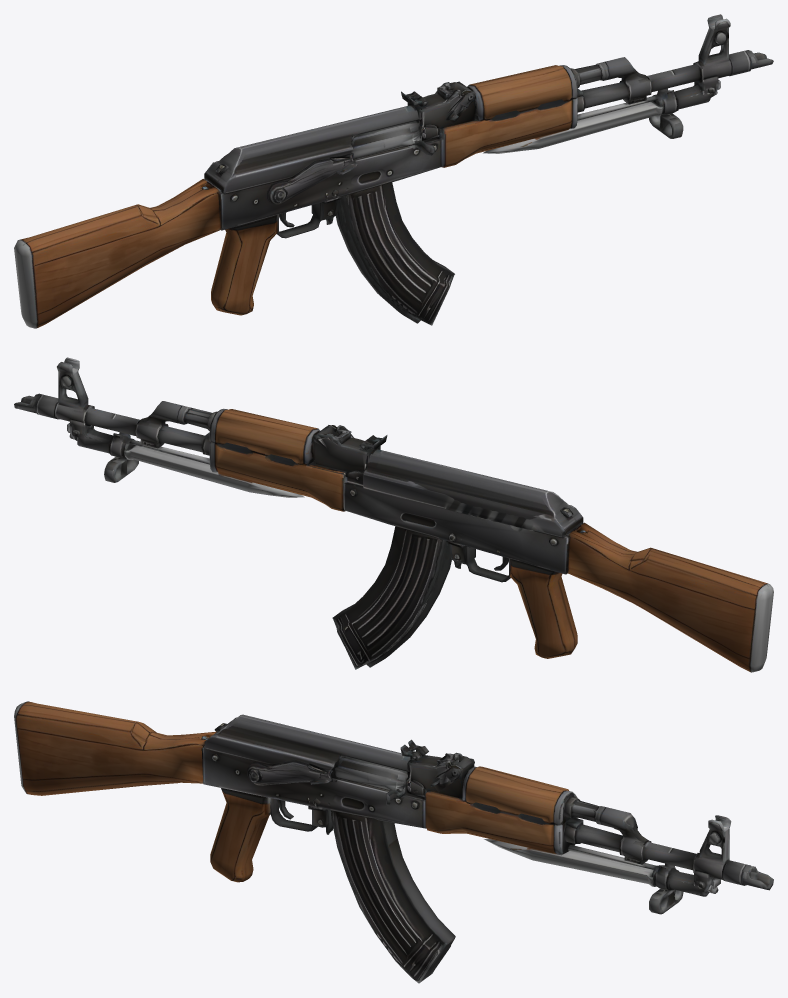
The picture shows the model from 3 angles, top to bottom: view 1: azimuth 30°, elevation 25°; view 2: azimuth 150°, elevation 25°; view 3: azimuth 330°, elevation 25°; orthographic projection.
Parts seen in each view (by area): view 1: Wooden Spike Type 56; view 2: Wooden Spike Type 56; view 3: Wooden Spike Type 56.
Part boxes in pixels (bbox=[...]): Wooden Spike Type 56: bbox=[14, 14, 773, 328]; Wooden Spike Type 56: bbox=[14, 357, 773, 672]; Wooden Spike Type 56: bbox=[14, 701, 773, 983].
Bounding box in the file's own units: 0.998 × 0.2949 × 0.084.
1 material, 1 textured.
